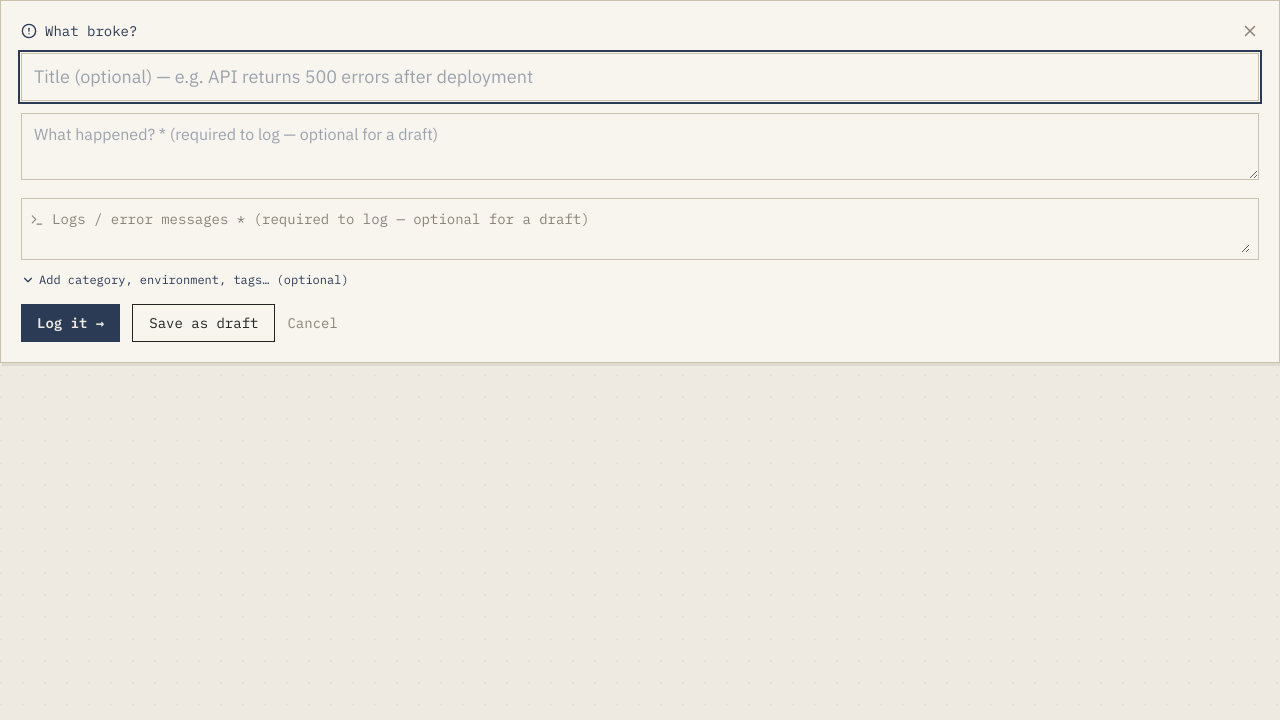
Test case: new entry form › requires logs before publishing
The image size is (1280, 720).
Type "Fake title" into the field named "Entry title" at (640, 77), box [21, 53, 1259, 101]
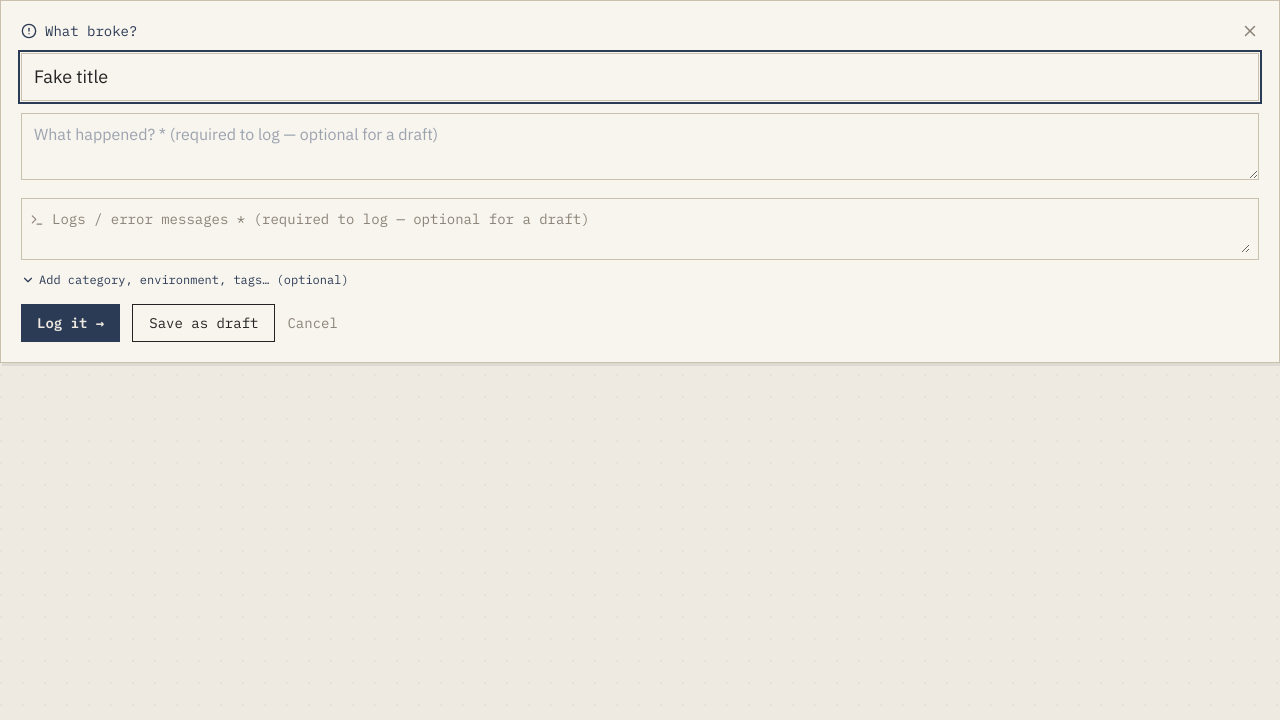
Type "fake incident" into the text box named "Entry description" at (640, 146), box [21, 113, 1259, 180]
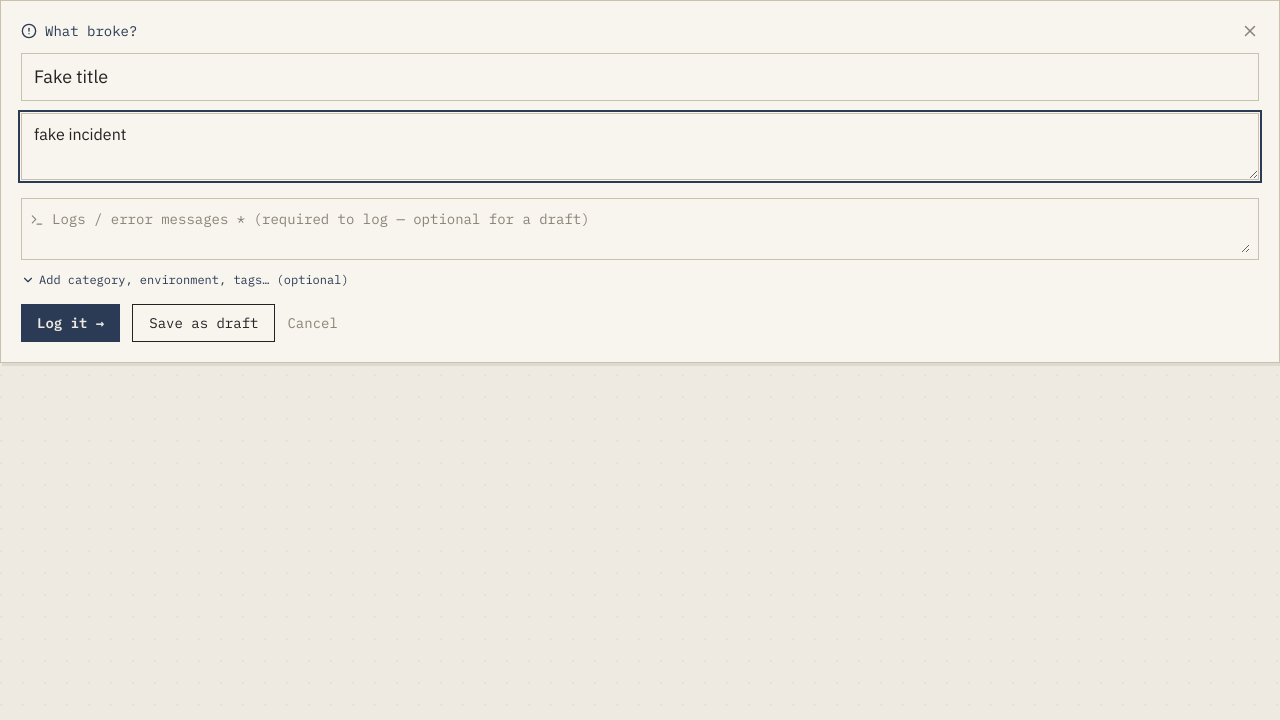
Click the button "Log it →" at (71, 323), box [21, 304, 120, 342]
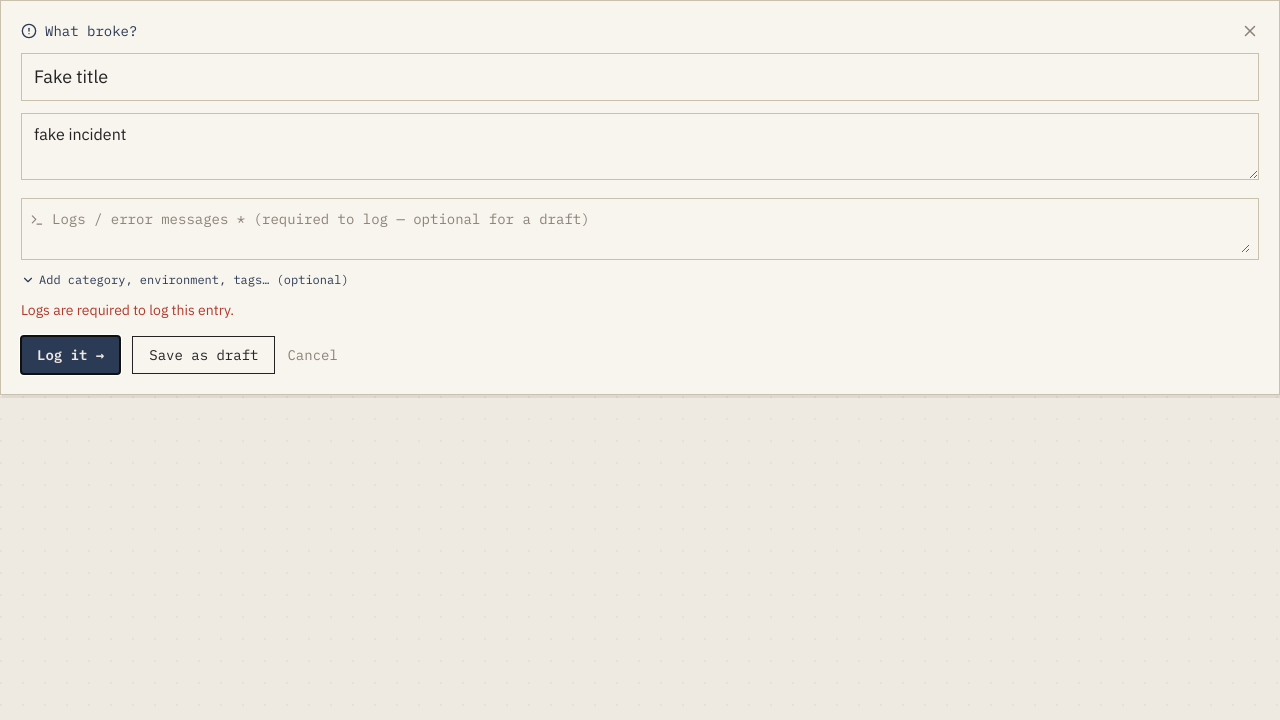
expect the text "Logs are required to log this entry." is shown: met, box [21, 301, 234, 319]
